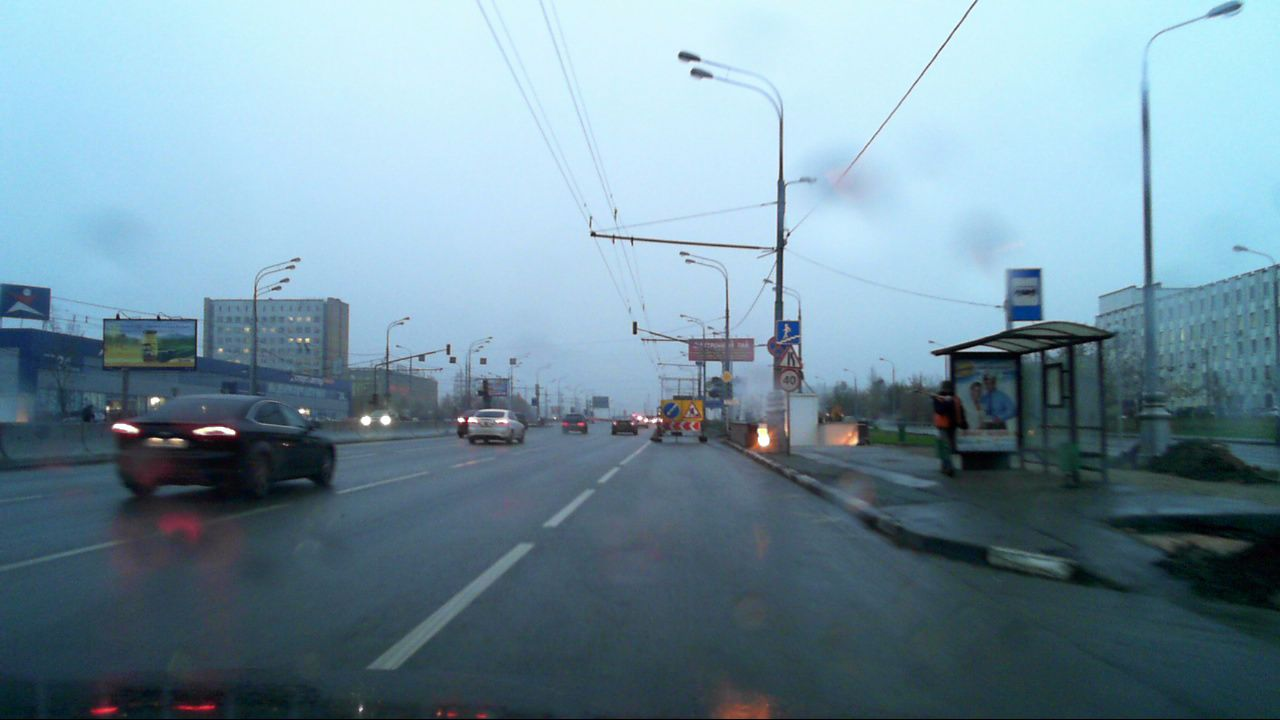No Parking: (766, 336, 785, 356)
speed_warning_40: (778, 369, 799, 392)
